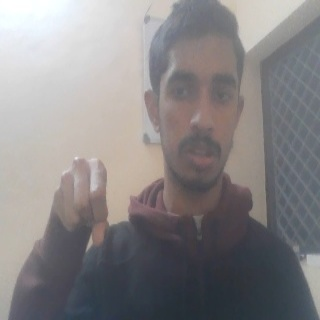Face: (142, 3, 246, 192)
Yes: (51, 157, 112, 248)
